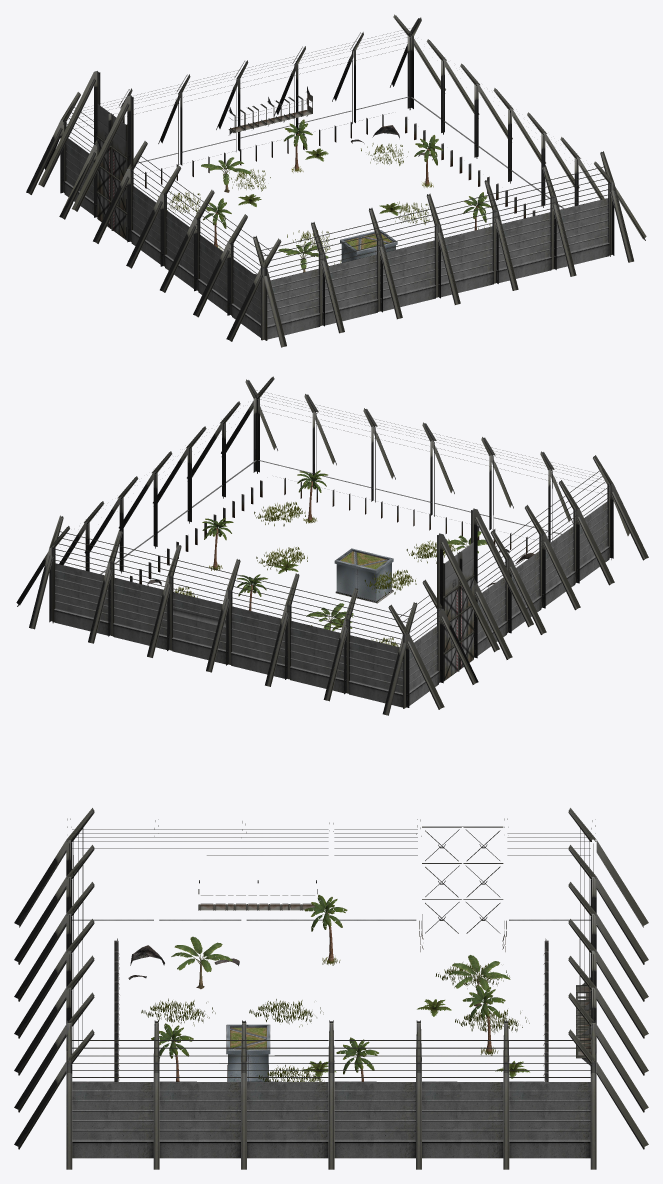
3 views of the same model, one above another, from view 1: azimuth 30°, elevation 25°; view 2: azimuth 150°, elevation 25°; view 3: azimuth 270°, elevation 25° (orthographic). The views are drawn at different scales.
Parts seen in each view (by area): view 1: Mesh_0031_rip1, Mesh_0048_rip, Raised_Platform; view 2: Mesh_0031_rip1, Mesh_0048_rip, Raised_Platform; view 3: Mesh_0031_rip1, Mesh_0048_rip, Raised_Platform.
Part boxes in pixels (x1,y1,x2,y2): Mesh_0031_rip1: [26, 14, 646, 347]; Mesh_0048_rip: [158, 119, 491, 272]; Raised_Platform: [340, 230, 397, 262]; Mesh_0031_rip1: [16, 376, 648, 715]; Mesh_0048_rip: [174, 470, 487, 646]; Raised_Platform: [334, 548, 393, 603]; Mesh_0031_rip1: [14, 808, 648, 1169]; Mesh_0048_rip: [141, 895, 529, 1081]; Raised_Platform: [226, 1024, 270, 1081].
Bounding box in the file's own units: 82.58 × 30.38 × 78.13.
3 materials, 3 textured.
